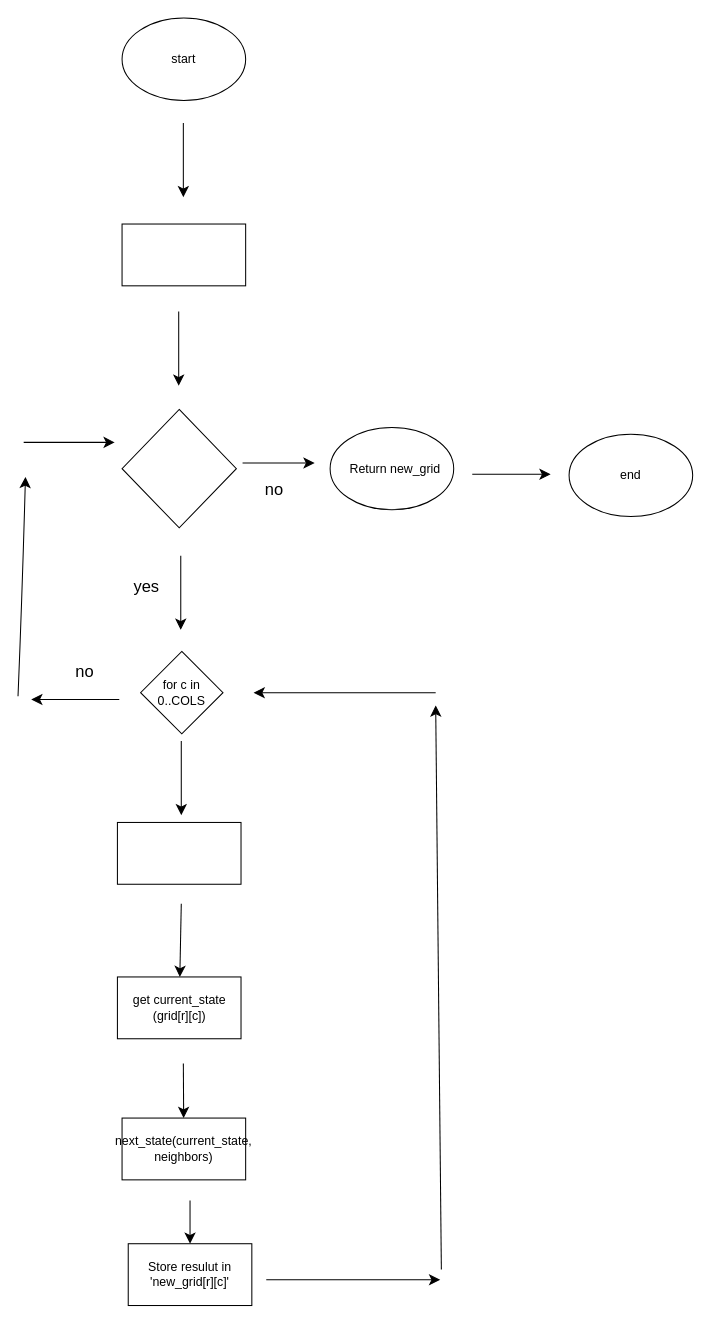
Image size: 711x1324. Some labels were removed from this diagram. The shapes that lost their labels are listed below. From the top down, each one's box as (x1, y1, x2, y2) in pixels, then its label:
(121, 223, 246, 286): let mut new_grid = ...
(121, 408, 236, 528): for r in 0..ROWS
(116, 821, 241, 884): count_neighbors(grid, r,c)
